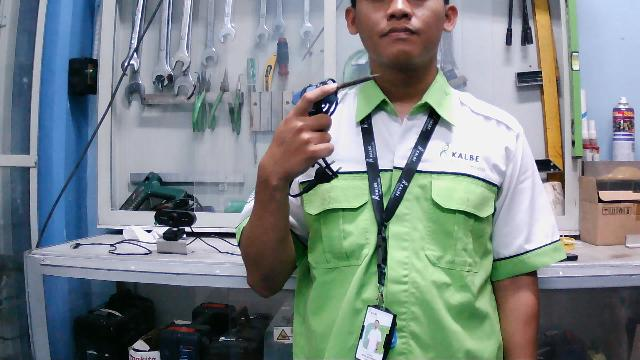solder_electrical: (289, 70, 380, 198)
